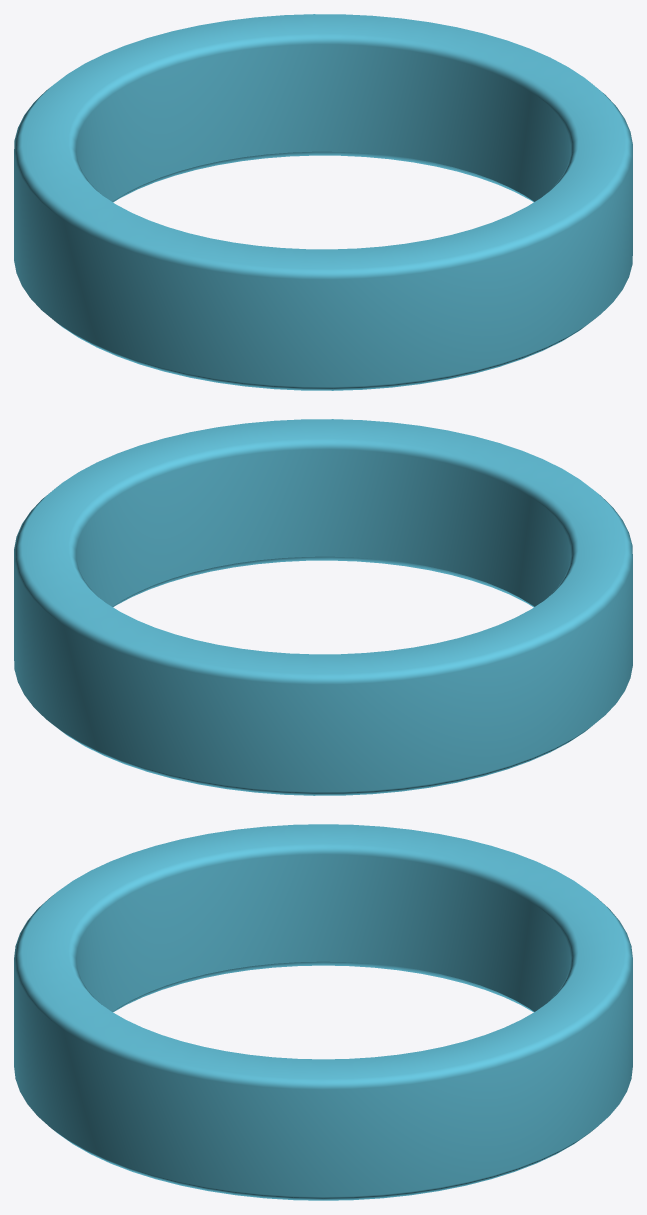
The picture shows the model from 3 angles, top to bottom: view 1: azimuth 30°, elevation 25°; view 2: azimuth 150°, elevation 25°; view 3: azimuth 270°, elevation 25°; orthographic projection.
Visible parts, largest first — view 1: seal_body; view 2: seal_body; view 3: seal_body.
Boxes of the visible parts, bbox=[...] form: seal_body: bbox=[14, 14, 632, 390]; seal_body: bbox=[14, 419, 632, 795]; seal_body: bbox=[14, 824, 632, 1200].
Size of the model in its own units: 0.0322 by 0.007 by 0.0322.
